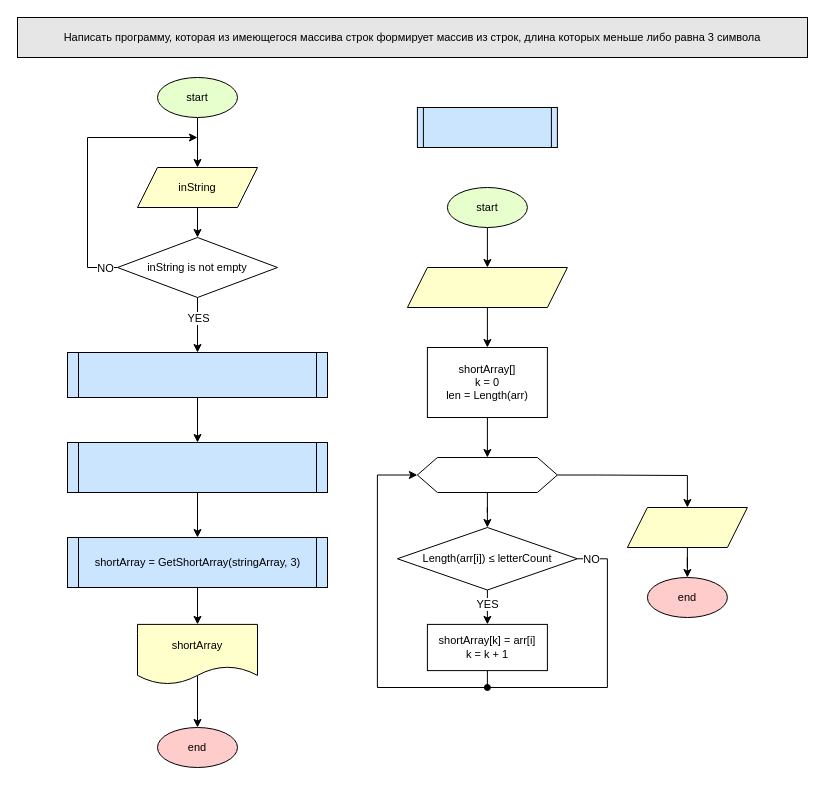
Image size: 825x785. Some labels were removed from this diagram. Here are the shapes that lost their labels. From the top down, the box of each, then its label:
(416, 106, 557, 148): GetShortArray
(406, 266, 567, 308): arr[ ], letterCount
(66, 352, 328, 398): DeleteSpaces(inString)
(66, 442, 328, 492): stringArray = ArrayFromString(inString)
(416, 456, 557, 492): i = 0, len -1, 1
(626, 506, 747, 548): shortArray[]
